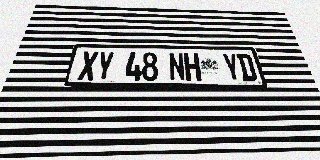4: (125, 52, 142, 81)
8: (142, 52, 158, 81)
D: (236, 54, 258, 81)
H: (183, 53, 202, 81)
N: (168, 53, 185, 81)
X: (77, 51, 99, 80)
Y: (95, 52, 115, 81), (222, 53, 242, 81)
